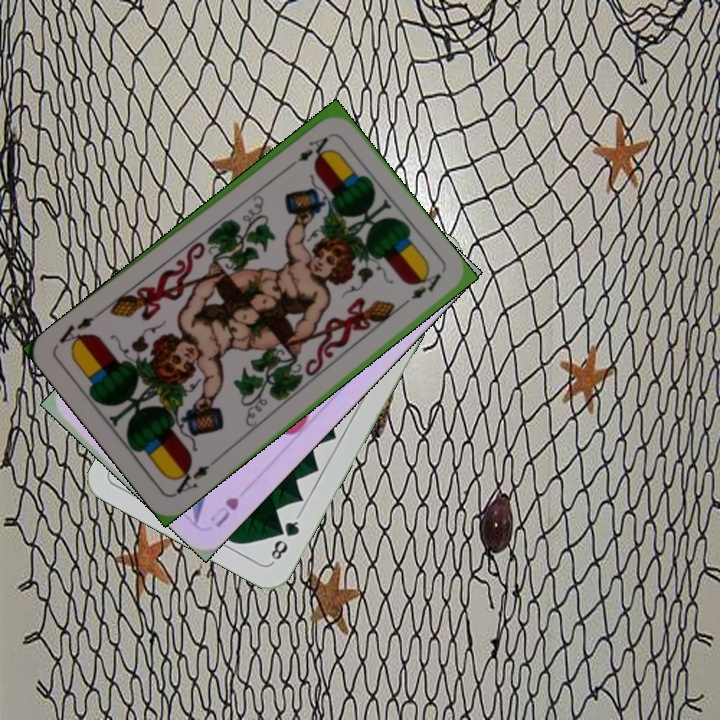EA: (282, 132, 331, 172), (169, 460, 212, 497)
G8: (266, 511, 302, 565)
HU: (205, 493, 242, 530)
